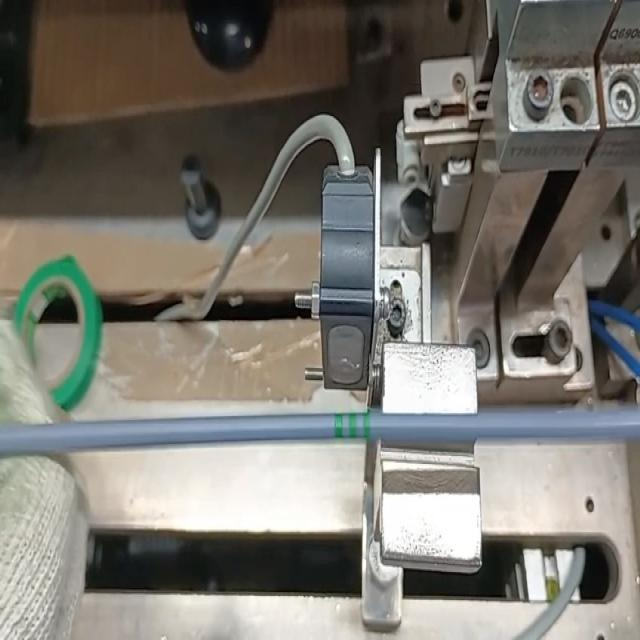green: (335, 413, 367, 438)
